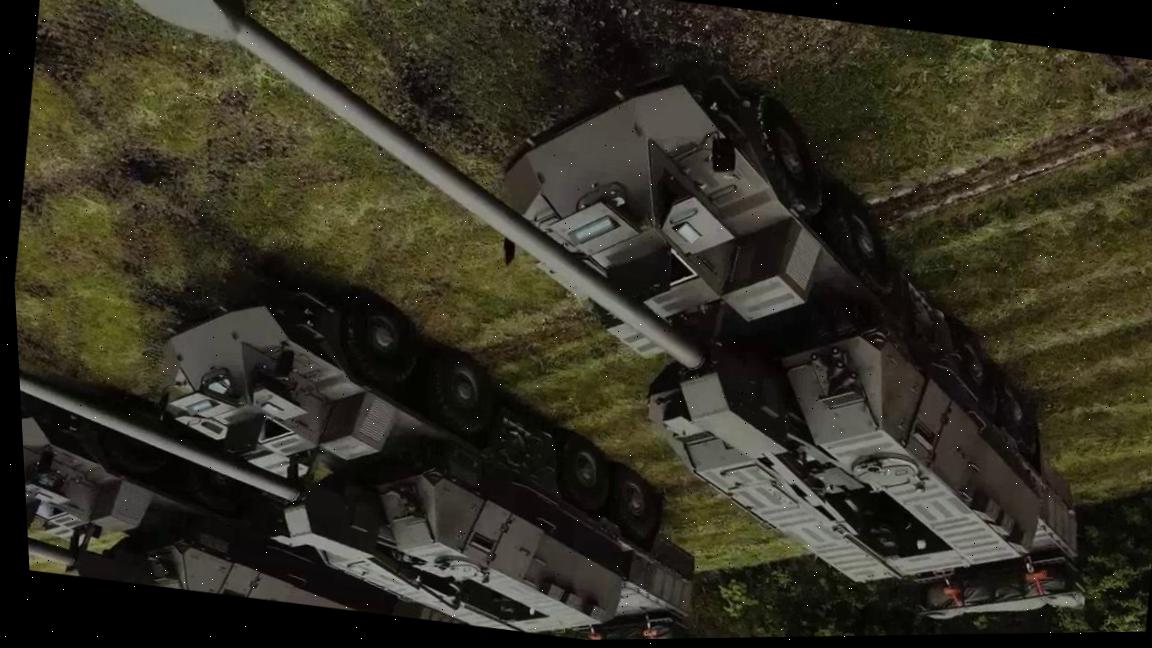sau: (20, 0, 1152, 648), (13, 233, 738, 648), (21, 406, 426, 623)
